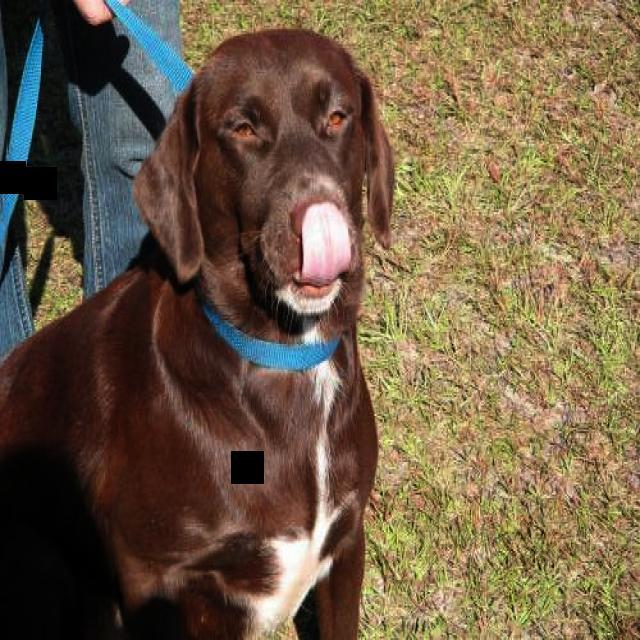adult_dog: (1, 24, 397, 640)
